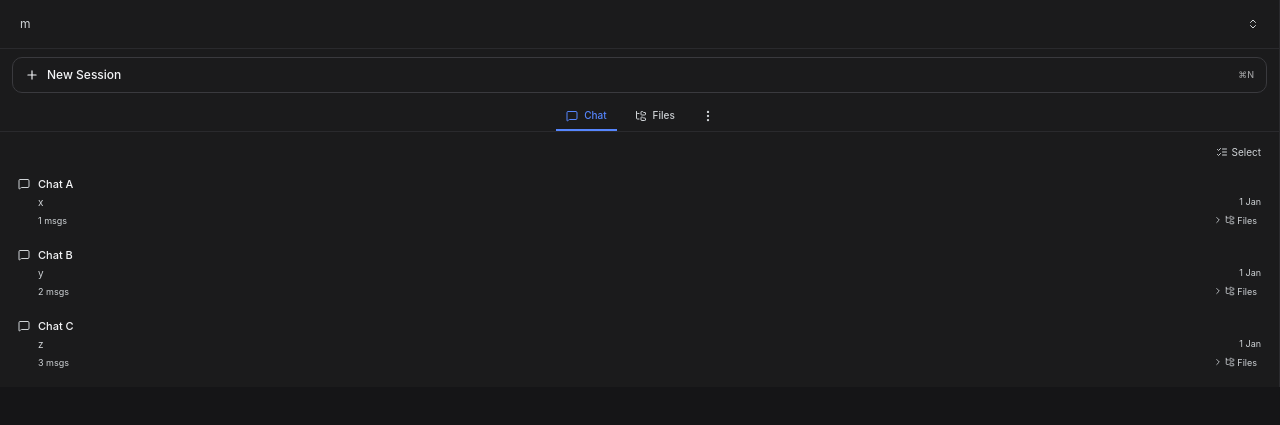
Test: LeftPanel multi-select › enters selection mode and does not switch session when a row is clicked
Click the button with test id "select-chats" at (1238, 152), box [1210,140,1267,164]
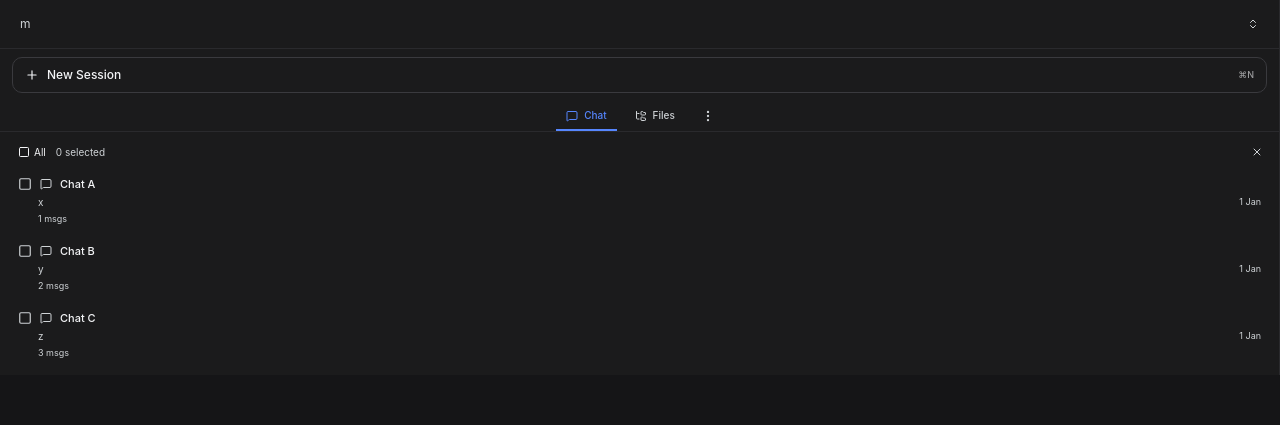
Click the element with test id "session-row" showing "Chat A x 1 Jan 1 msgs" at (78, 184), box [8,168,1271,233]
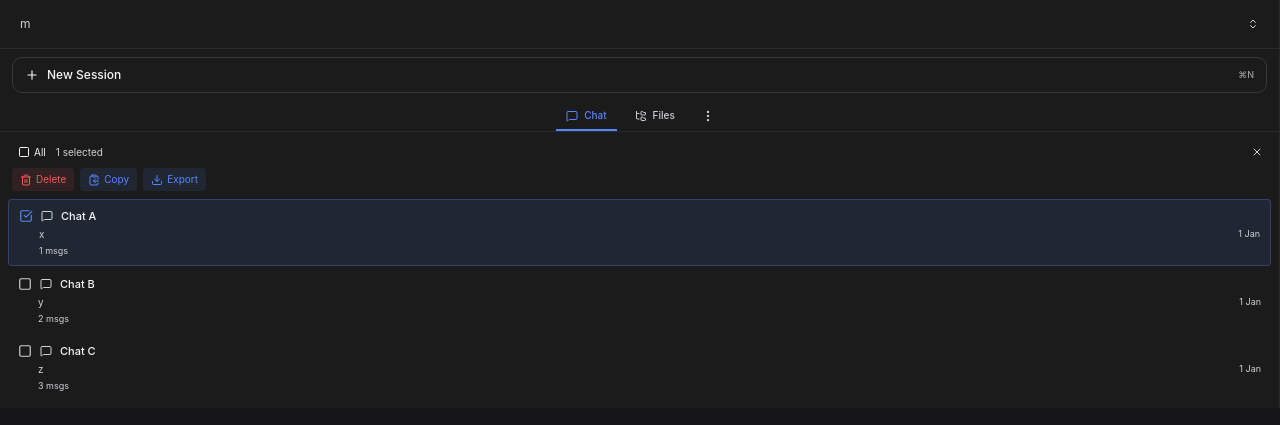
Expected: the text with test id "selected-count" reads "1 selected", [56,144,103,160]
